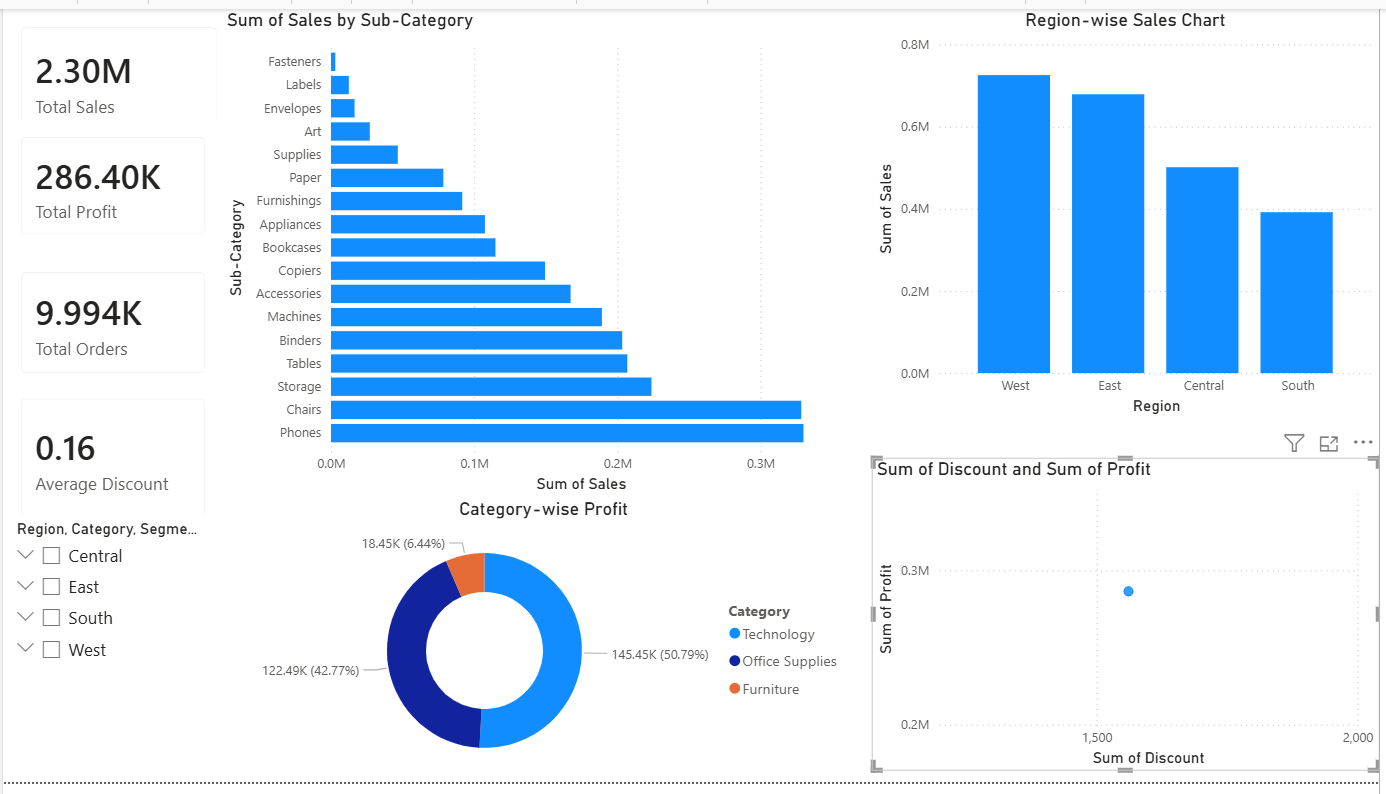

What the dashboard file says about the page in this screenshot:
{"tool":"powerbi","page":{"name":"Executive Overview","canvas":[1280,720],"ordinal":0},"visuals":[{"type":"cardVisual","fields":{"Data":["Sum(retail_sales_final.Sales)"]},"box":[0,0,216.4,133.3],"z":0},{"type":"cardVisual","fields":{"Data":["Sum(retail_sales_final.Profit)"]},"box":[0,102.7,205.4,124.7],"z":1000},{"type":"cardVisual","fields":{"Data":["CountNonNull(retail_sales_final.Sales)"]},"box":[0,227.4,205.4,128.4],"z":2000},{"type":"cardVisual","fields":{"Data":["Avg(retail_sales_final.Discount)"]},"box":[0,344.8,205.4,144.3],"z":3000},{"type":"clusteredColumnChart","title":"Region-wise Sales Chart","fields":{"Y":["Sum(retail_sales_final.Sales)"],"Category":["retail_sales_final.Region"]},"box":[808.3,0,472,382.7],"z":4000},{"type":"donutChart","title":"Category-wise Profit","fields":{"Category":["retail_sales_final.Category"],"Y":["Sum(retail_sales_final.Profit)"]},"box":[216.4,454.9,573.5,265.4],"z":5000},{"type":"clusteredBarChart","fields":{"Y":["Sum(retail_sales_final.Sales)"],"Category":["retail_sales_final.Sub-Category"]},"box":[203,0,587,454.9],"z":6000},{"type":"scatterChart","fields":{"X":["Sum(retail_sales_final.Discount)"],"Y":["Sum(retail_sales_final.Profit)"]},"box":[808.3,417,472,292.3],"z":7000},{"type":"slicer","fields":{"Values":["retail_sales_final.Region","retail_sales_final.Category","retail_sales_final.Segment"]},"box":[0,469.6,205.4,250.7],"z":8000}]}

Visuals, with their boxes in screenshot pixels (x1, y1, x2, y2), scaled from the page's 1280x720 canvas onto the 1386x794 screenshot:
cardVisual - Sum(retail_sales_final.Sales): bbox(0, 0, 234, 147)
cardVisual - Sum(retail_sales_final.Profit): bbox(0, 113, 222, 251)
cardVisual - CountNonNull(retail_sales_final.Sales): bbox(0, 251, 222, 392)
cardVisual - Avg(retail_sales_final.Discount): bbox(0, 380, 222, 539)
"Region-wise Sales Chart" clusteredColumnChart: bbox(875, 0, 1385, 422)
"Category-wise Profit" donutChart: bbox(234, 502, 855, 793)
clusteredBarChart - Sum(retail_sales_final.Sales) x retail_sales_final.Sub-Category: bbox(220, 0, 855, 502)
scatterChart - Sum(retail_sales_final.Discount) x Sum(retail_sales_final.Profit): bbox(875, 460, 1385, 782)
slicer - retail_sales_final.Region x retail_sales_final.Category: bbox(0, 518, 222, 793)
